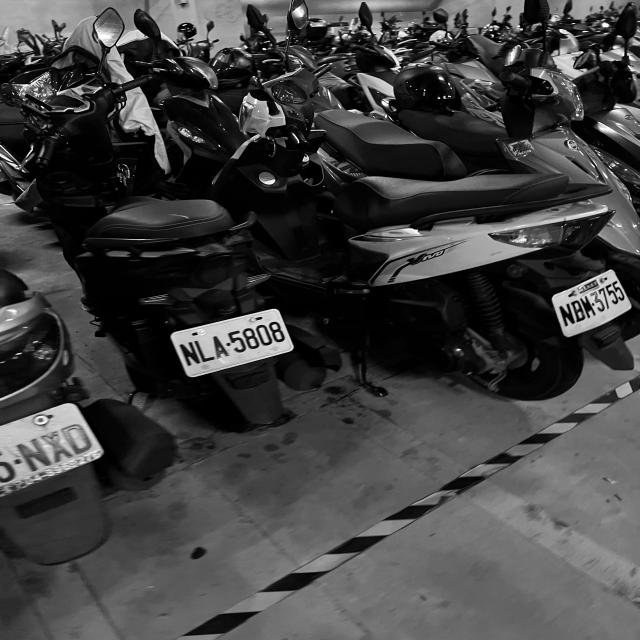-: (13, 456, 24, 466), (225, 341, 232, 347), (591, 302, 595, 307)
0: (254, 323, 275, 347)
3: (590, 290, 607, 314)
5: (226, 329, 249, 355), (604, 283, 621, 306), (611, 280, 626, 302)
7: (597, 286, 612, 310)
8: (241, 327, 262, 351), (267, 321, 287, 344)
A: (211, 335, 232, 360)
B: (570, 299, 587, 324)
D: (60, 421, 96, 456)
L: (193, 339, 217, 364)
M: (579, 294, 596, 319)
N: (15, 436, 55, 474), (178, 341, 202, 368), (558, 302, 577, 328)
X: (39, 429, 76, 464)
plate: (173, 313, 293, 375), (553, 272, 632, 336)
